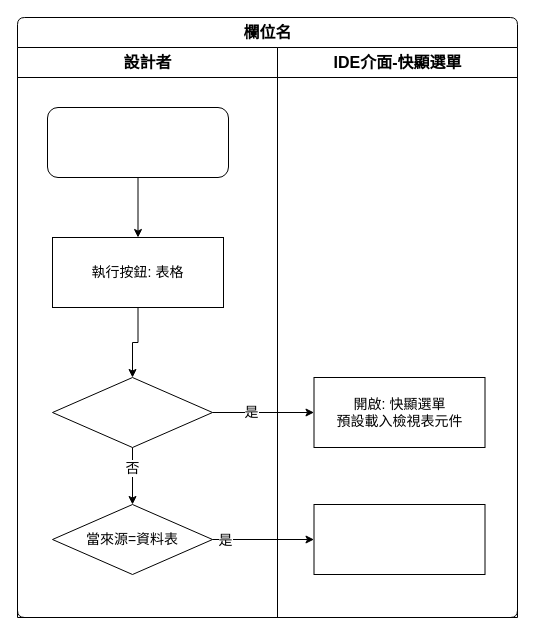
This 535x635 diagram has some shape labels left out. The box of each missing label's shape, as (x1, y1, x2, y2) in pixels:
當來源=檢視表: (52, 376, 212, 448)
開啟: 報表規格定義: (46, 106, 228, 178)
開啟: 快顯選單 預設載入資料表元件: (313, 504, 485, 574)
